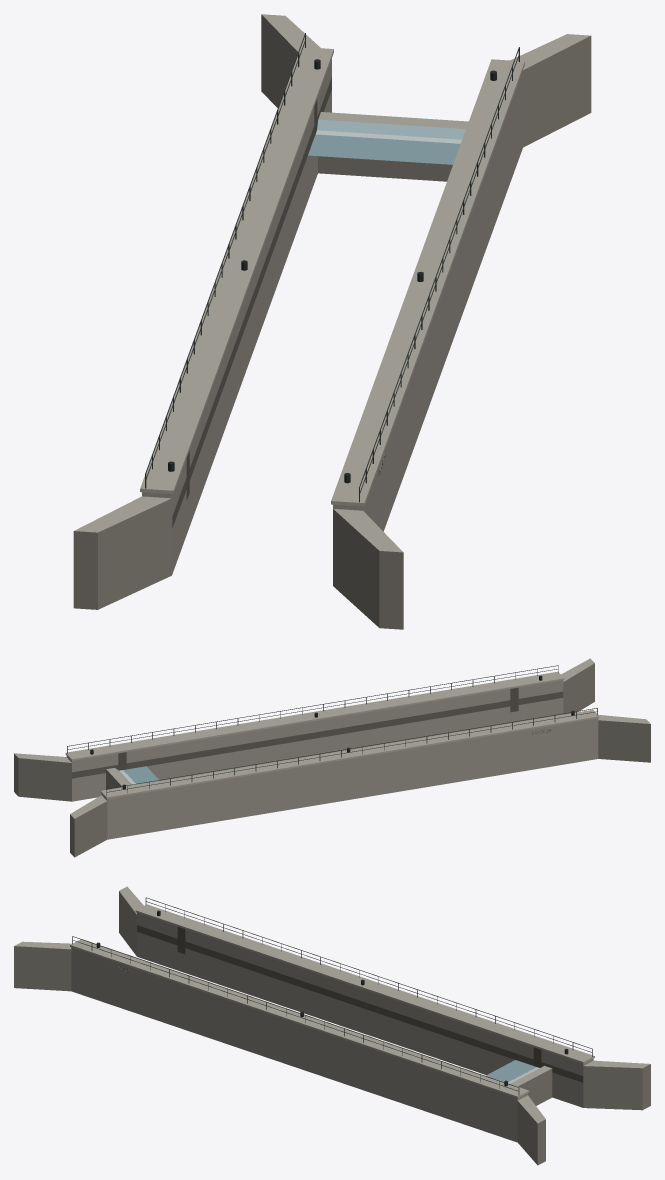
The model's file is lock28.glb.
3 views of the same model, one above another, from view 1: azimuth 30°, elevation 25°; view 2: azimuth 150°, elevation 25°; view 3: azimuth 270°, elevation 25° (orthographic). The views are drawn at different scales.
Visible parts, largest first — view 1: lock28_lod0; view 2: lock28_lod0; view 3: lock28_lod0.
Boxes of the visible parts, <box> form: lock28_lod0: <box>73,14,591,629</box>; lock28_lod0: <box>14,658,650,857</box>; lock28_lod0: <box>14,886,650,1165</box>.
Size of what is drawn, in the model's own units: 67.89 by 7.27 by 77.06.
